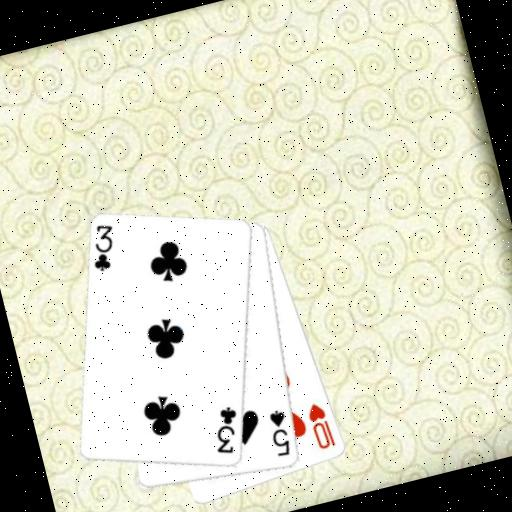10H: (303, 398, 338, 453)
3C: (205, 402, 248, 459), (82, 219, 125, 276)
5S: (262, 406, 297, 461)
